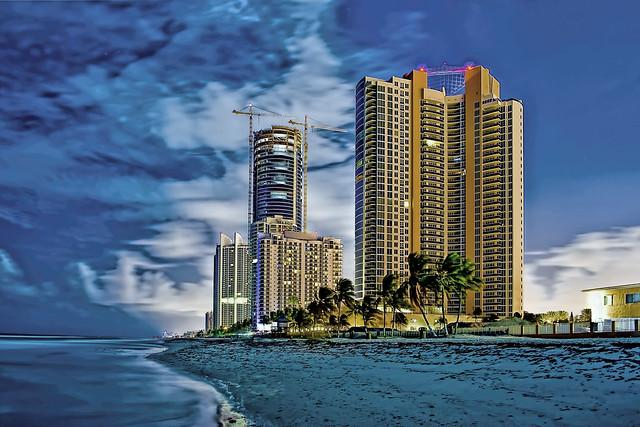building: (349, 58, 526, 326), (248, 121, 346, 324)
